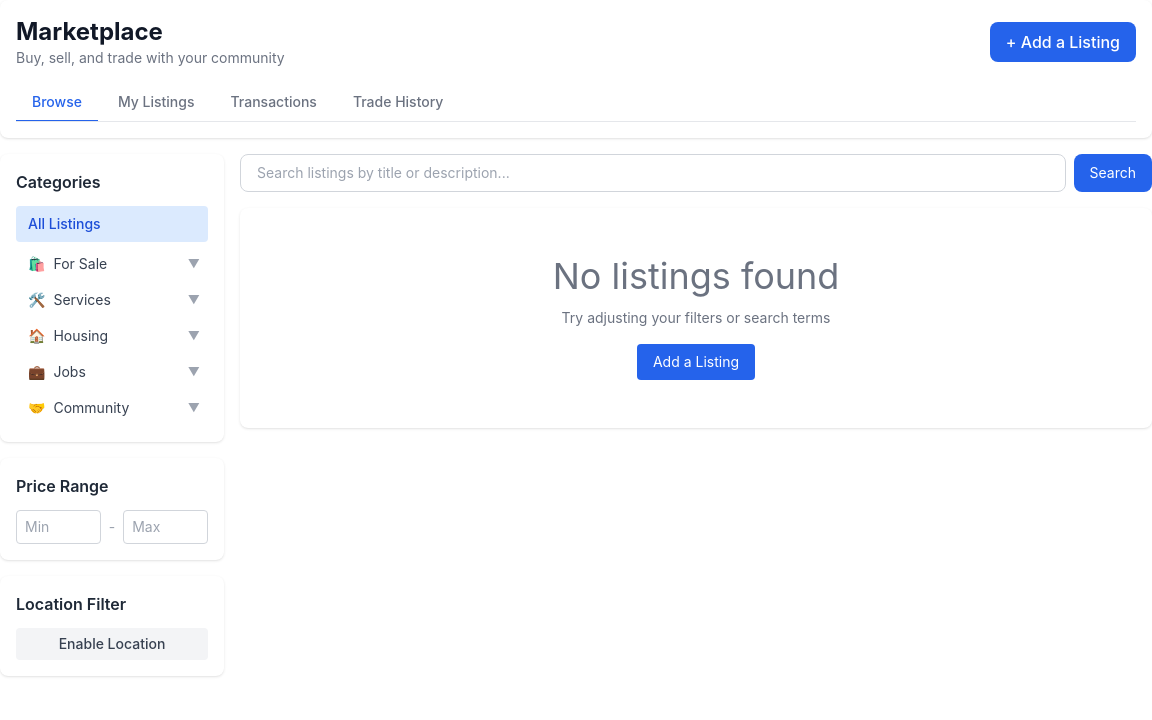
Test: Market listing creation affordance › shows an image upload field for listings
Click the button "+ Add a Listing" at x=1063, y=42, box left=990, top=22, right=1136, bottom=62
(page scrolled)
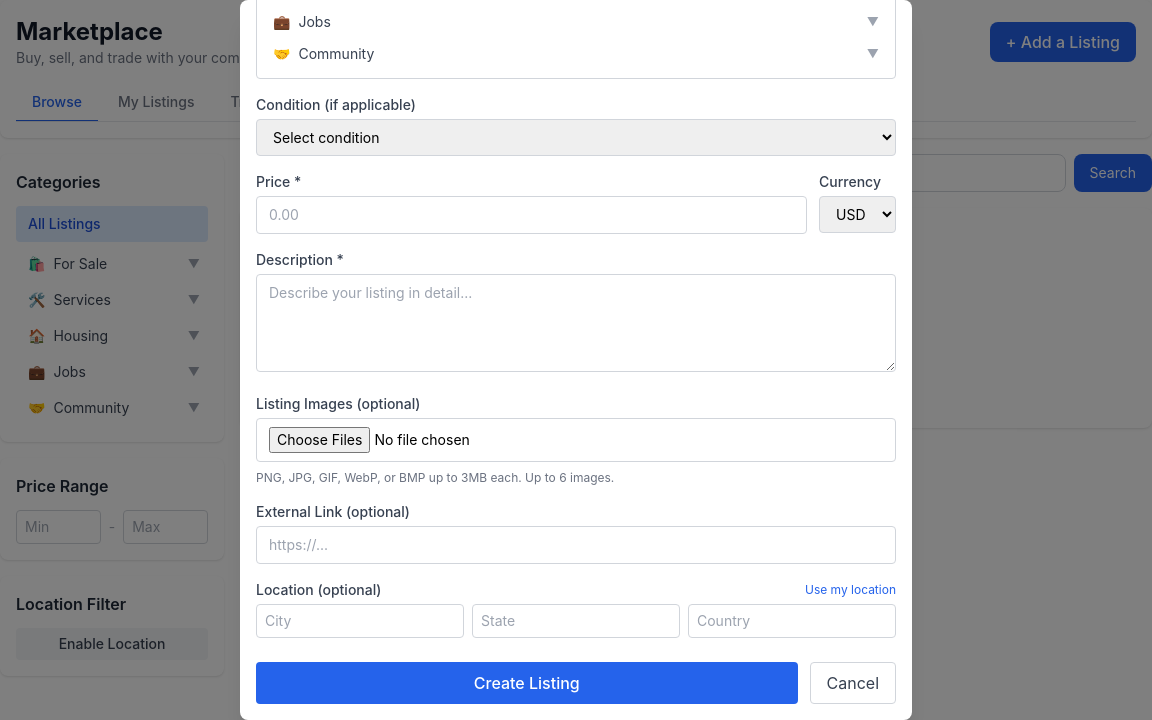
Result: the file field is shown at left=256, top=418, right=896, bottom=462
